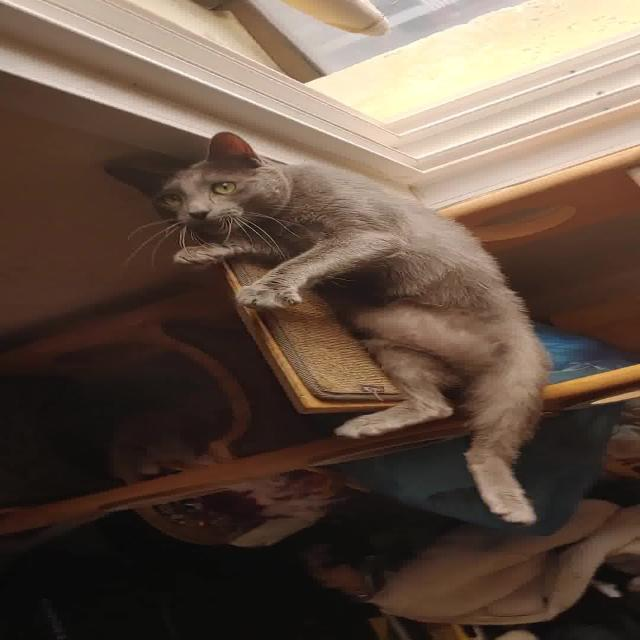cat: (95, 125, 585, 534)
